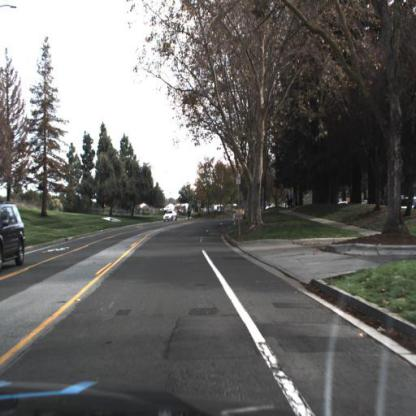biker: (184, 197, 194, 223)
car: (1, 199, 27, 276), (163, 206, 179, 227)
pedestrian: (286, 188, 293, 211), (289, 188, 296, 211)
